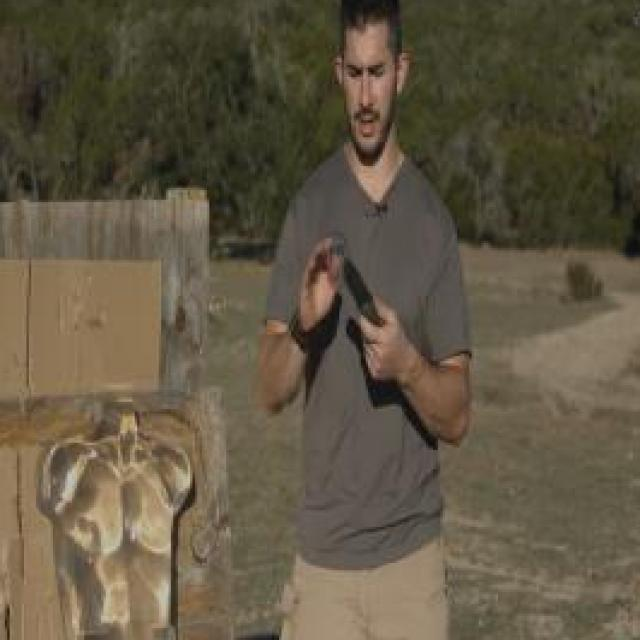knife: (341, 245, 406, 388)
